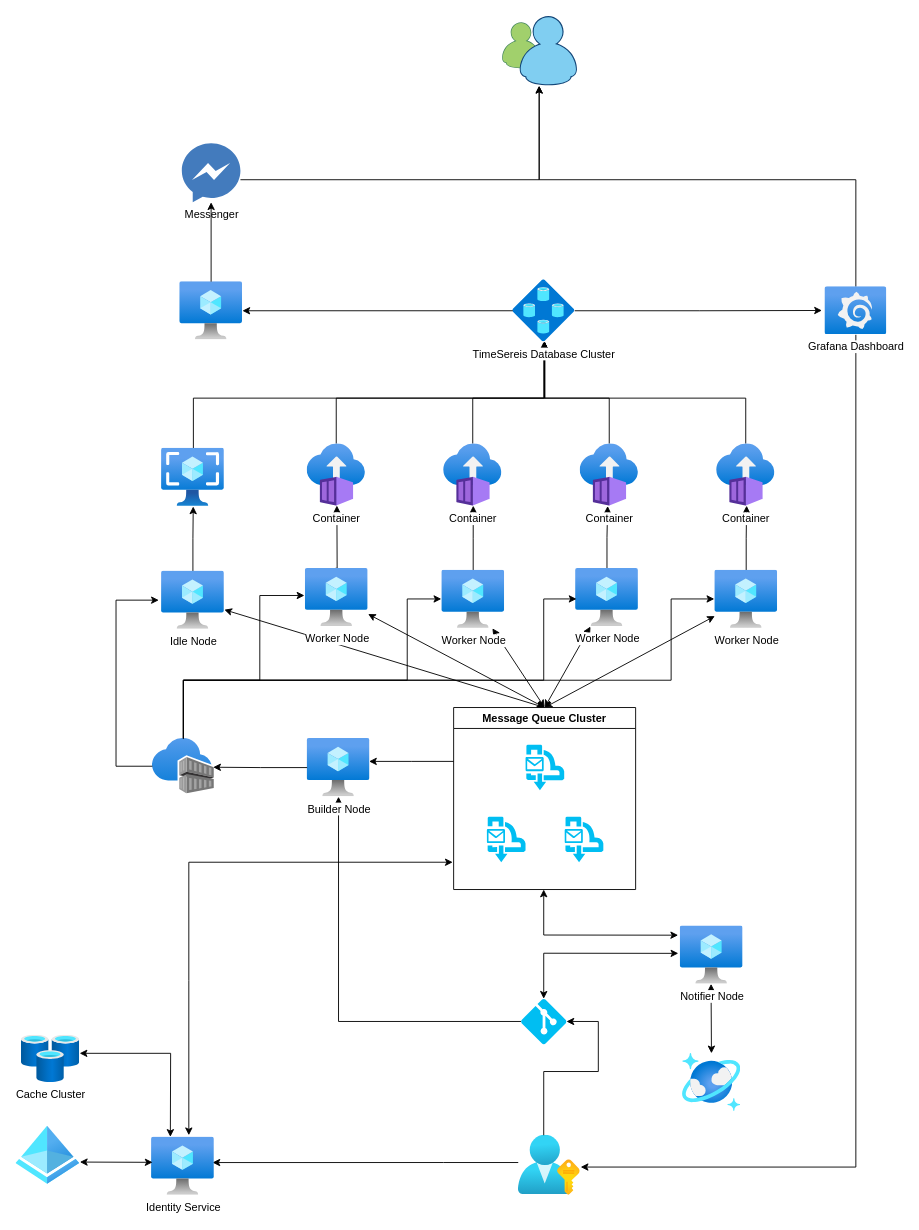
This 919x1230 diagram has some shape labels left out. The box of each missing label's shape, as (x1, y1, x2, y2) in pixels:
Container Image Registry: (152, 738, 214, 794)
Developer: (518, 1135, 580, 1195)
Document DB: (682, 1053, 740, 1111)
LDAP Server: (15, 1126, 79, 1184)
Members: (501, 15, 577, 86)
Prepared Image: (161, 448, 224, 506)
Push Node: (179, 281, 242, 339)
Remote Git Server: (521, 998, 566, 1044)
